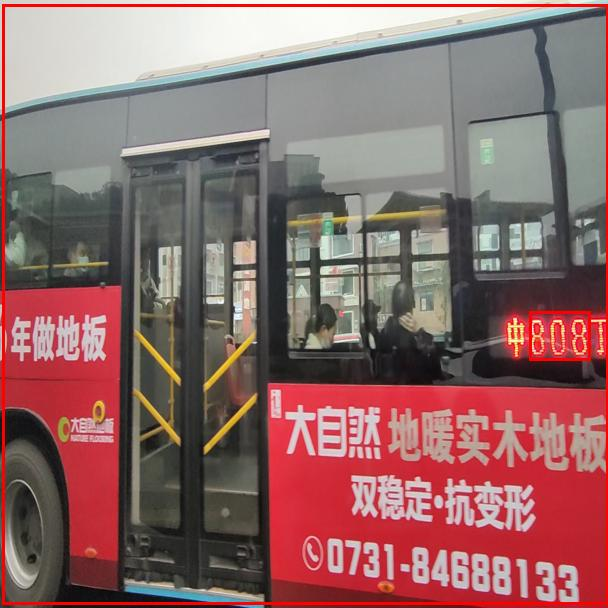bus: (2, 4, 608, 604)
screen: (529, 311, 590, 360)
